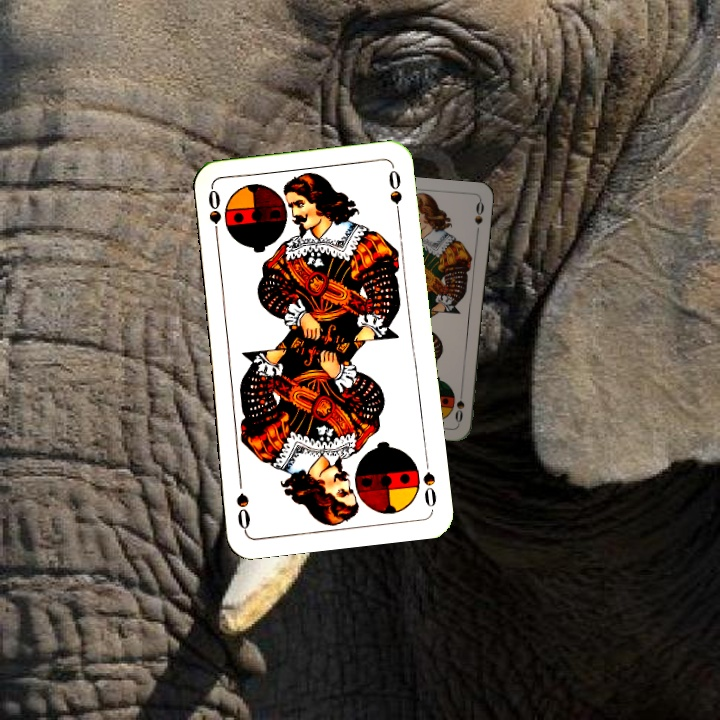SO: (204, 185, 224, 245), (419, 453, 439, 512), (451, 385, 467, 425)
